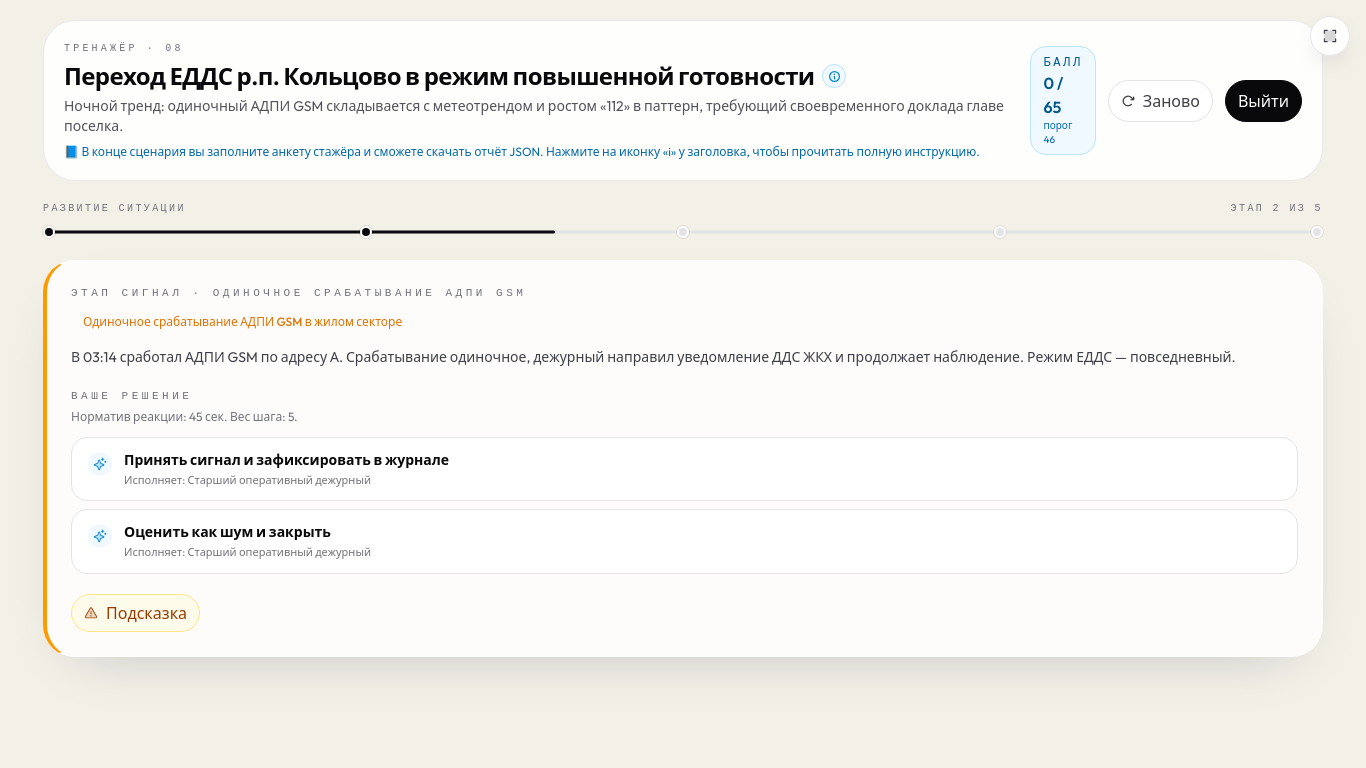
it: Trainer route (Phase 4.d) › penalises a prohibited action and still advances
# Step 1 prohibited: dismiss-as-noise
Click the button with test id "trainer-action-dismiss-as-noise" at (227, 532), box [71,509,1298,574]
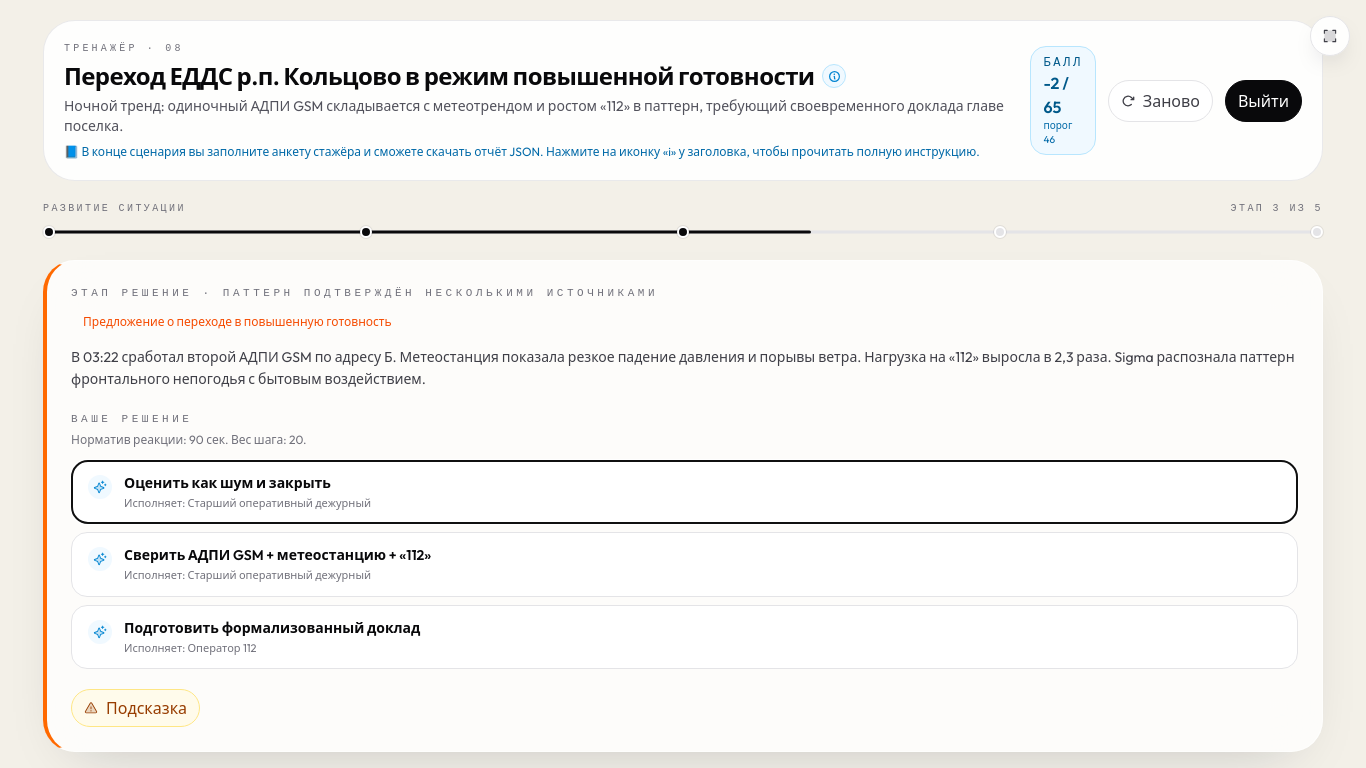
Expected: the button with test id "trainer-action-cross-check-sources" is shown, [71,532,1298,596]
